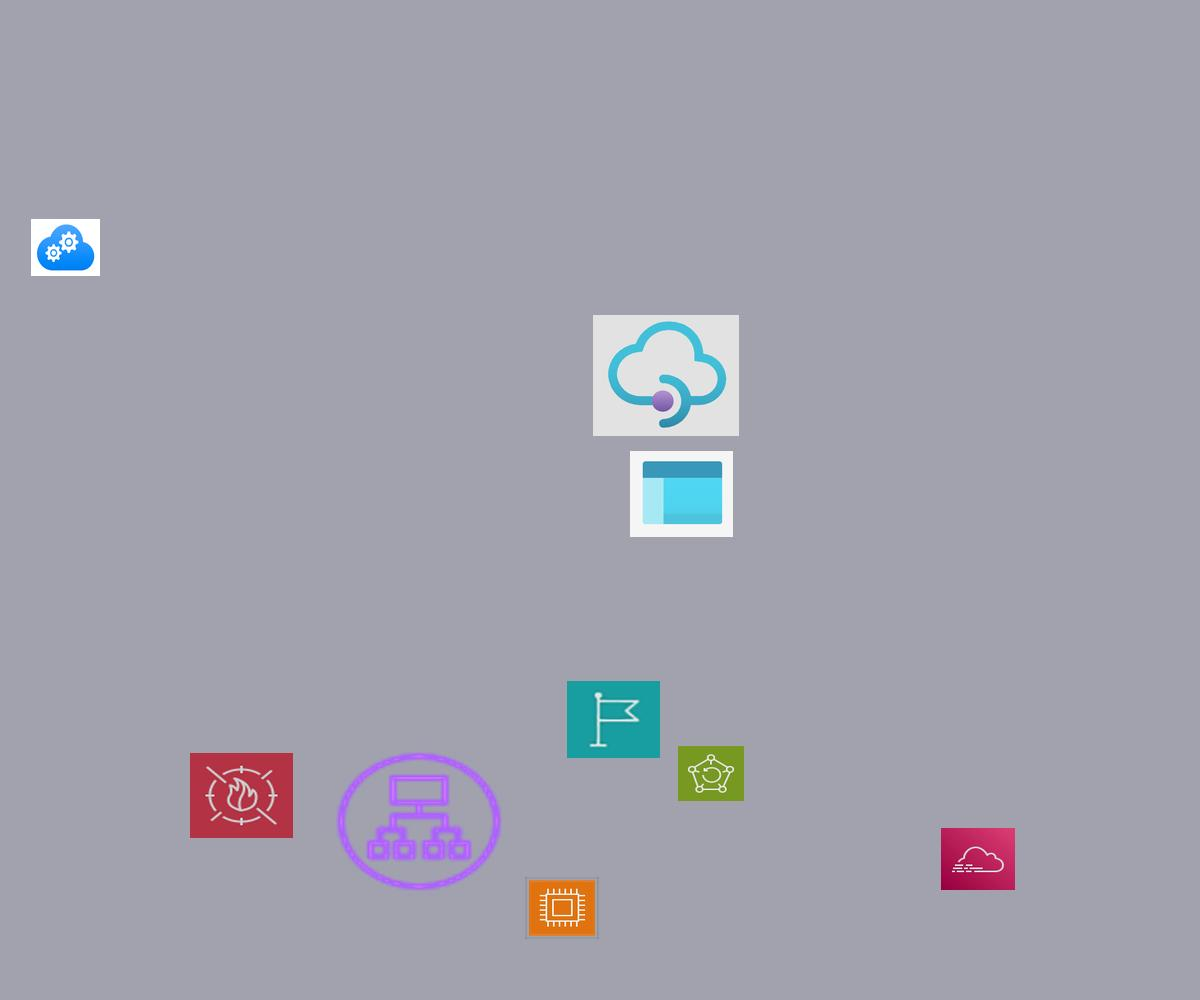AWS-Backup: (678, 746, 744, 801)
AWS-Category_Compute: (525, 877, 599, 939)
AWS-CloudTrail: (941, 828, 1015, 890)
AWS-Region: (567, 681, 660, 758)
AWS-Res_Elastic-Load-Balancing_Application-Load-Balancer: (330, 747, 508, 896)
AWS-WAF: (190, 753, 293, 838)
Azure_api_gateway: (593, 315, 739, 436)
Azure_cloud_services: (31, 219, 100, 276)
Azure_management-portal: (630, 451, 733, 537)
